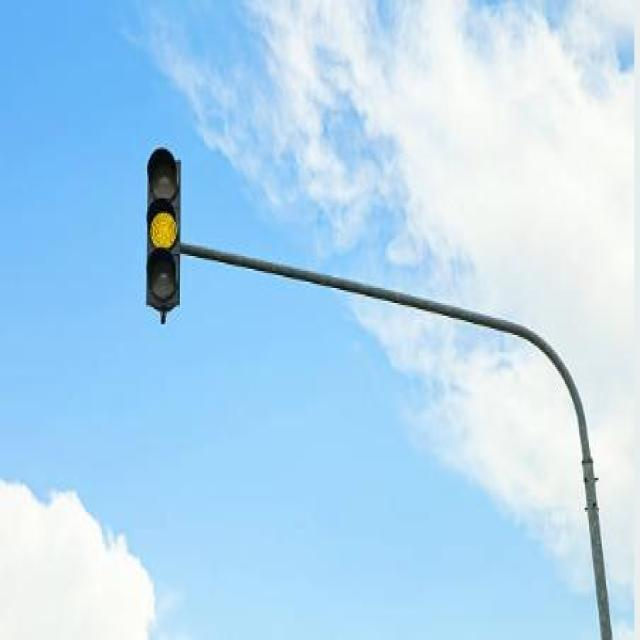yellow_light: (145, 146, 181, 323)
